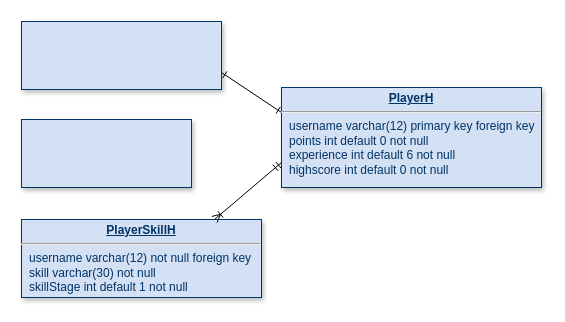
This 565x322 diagram has some shape labels left out. Each missing label, with the centre of its shape:
"CodeH code varchar(12) primary key prize int not null" goes at point (107, 154).
"UserH username varchar(12) primary key password varchar(12) not null" goes at point (122, 56).
